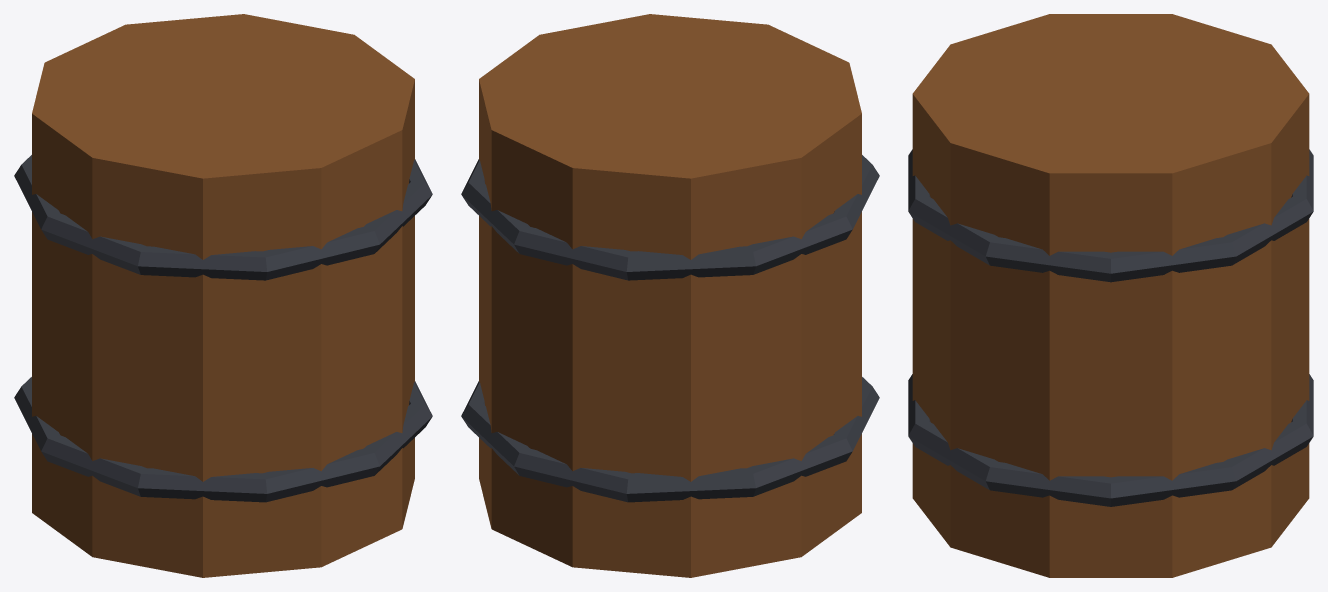
The model's file is barrel.glb.
3 views of the same model, side by side, from view 1: azimuth 30°, elevation 25°; view 2: azimuth 150°, elevation 25°; view 3: azimuth 270°, elevation 25° (orthographic).
Parts seen in each view (by area): view 1: barrel; view 2: barrel; view 3: barrel.
Part boxes in pixels (x1,y1,x2,y2): barrel: [14, 14, 432, 577]; barrel: [461, 14, 879, 577]; barrel: [908, 14, 1313, 577].
Bounding box in the file's own units: 0.86 × 0.9 × 0.8179.
